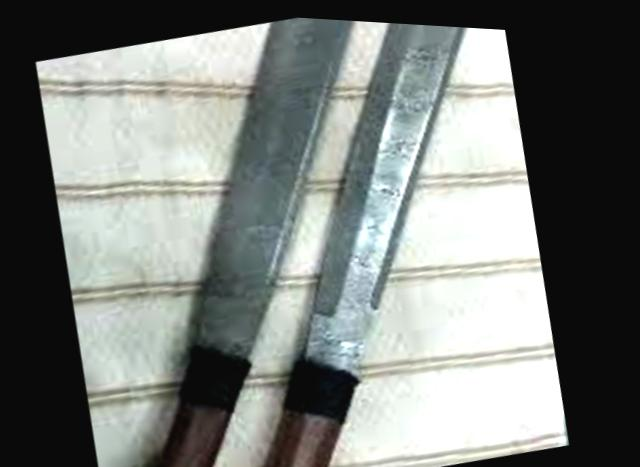long knife: (85, 5, 599, 467), (12, 2, 513, 467)
